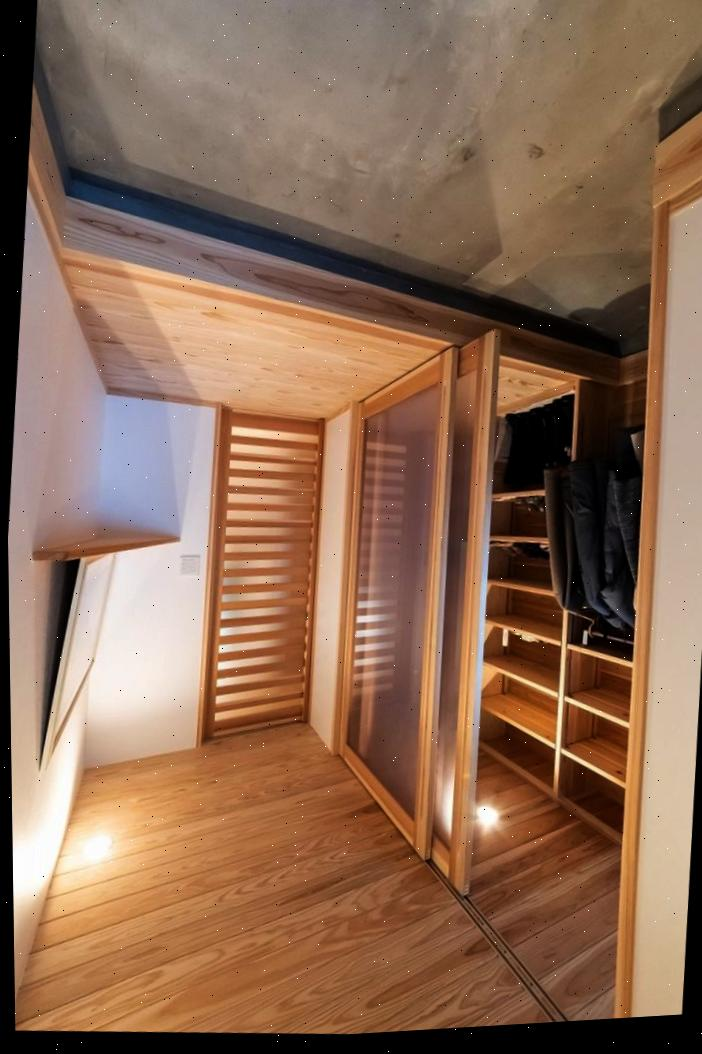floor: (34, 0, 702, 342)
safe: (57, 244, 453, 420)
